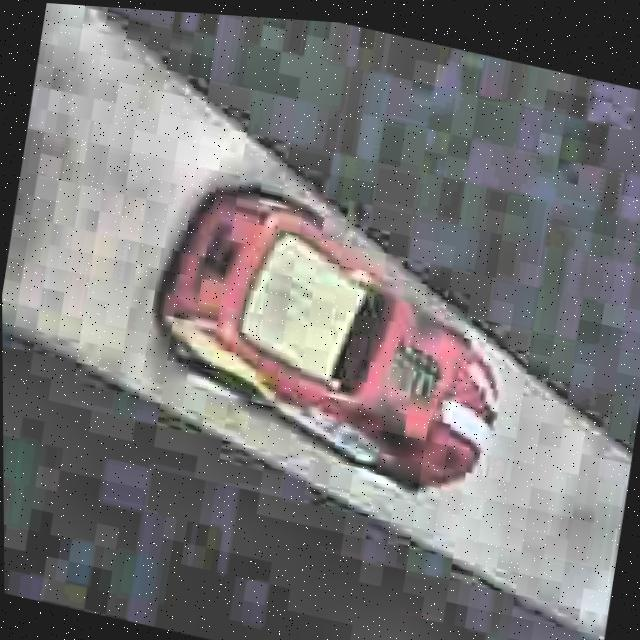car: (129, 162, 529, 515)
